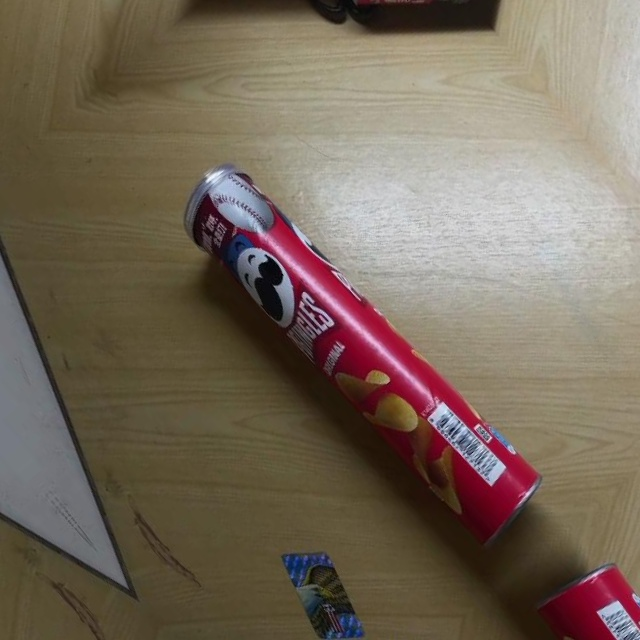Pringles: (165, 133, 560, 573)
